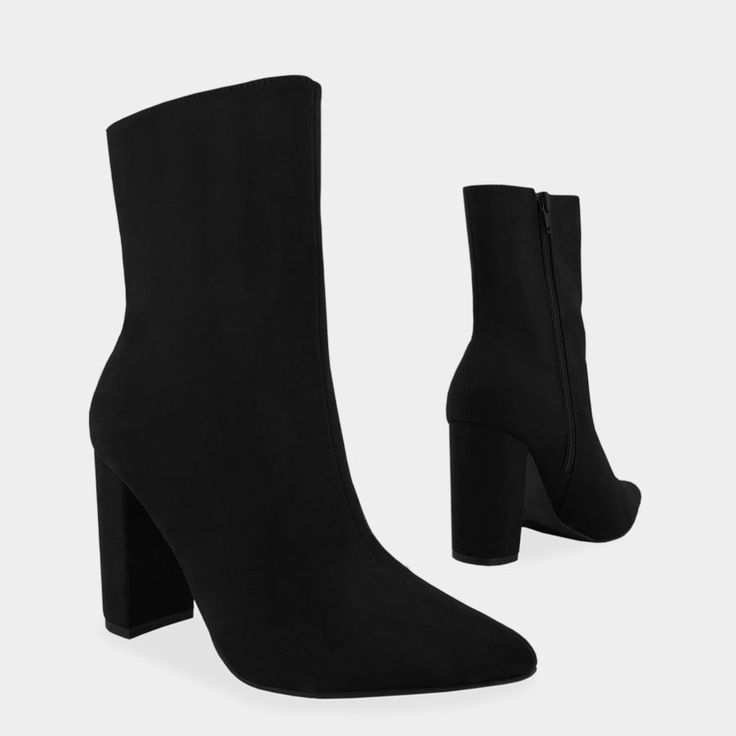gamuza: (94, 75, 642, 699)
